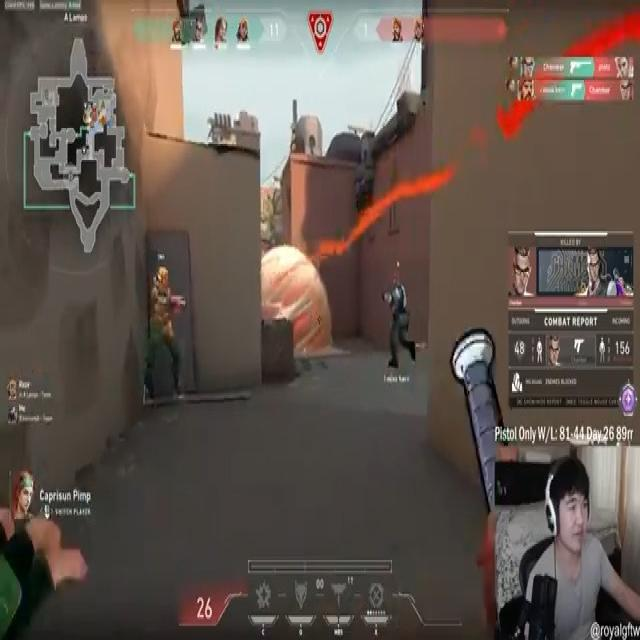ally: (146, 263, 188, 402), (381, 272, 417, 374)
smoke: (261, 241, 332, 358)
